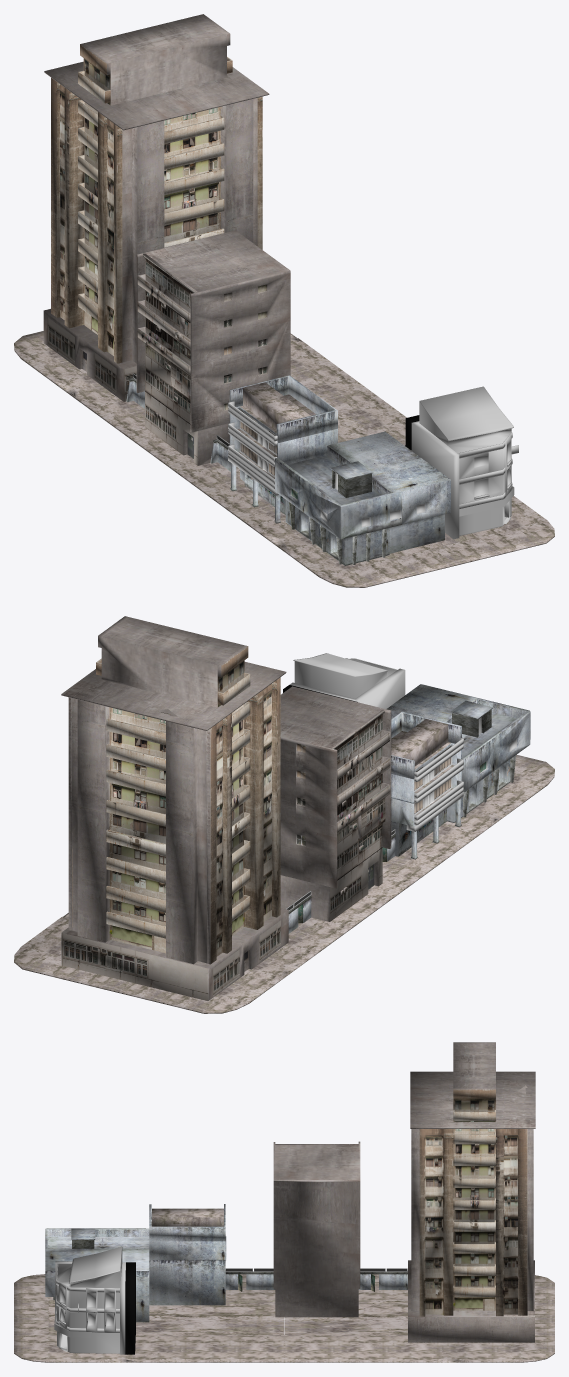
File: CityBlockB.dae
3 views of the same model, one above another, from view 1: azimuth 30°, elevation 25°; view 2: azimuth 150°, elevation 25°; view 3: azimuth 270°, elevation 25° (orthographic). The views are drawn at different scales.
Visible parts, largest first — view 1: meshU3D; view 2: meshU3D; view 3: meshU3D.
Boxes of the visible parts, x1,y1,x2,y2 form: meshU3D: (14, 14, 554, 587); meshU3D: (14, 616, 554, 1013); meshU3D: (14, 1042, 554, 1362).
Bounding box in the file's own units: 939 × 1242 × 2436.
